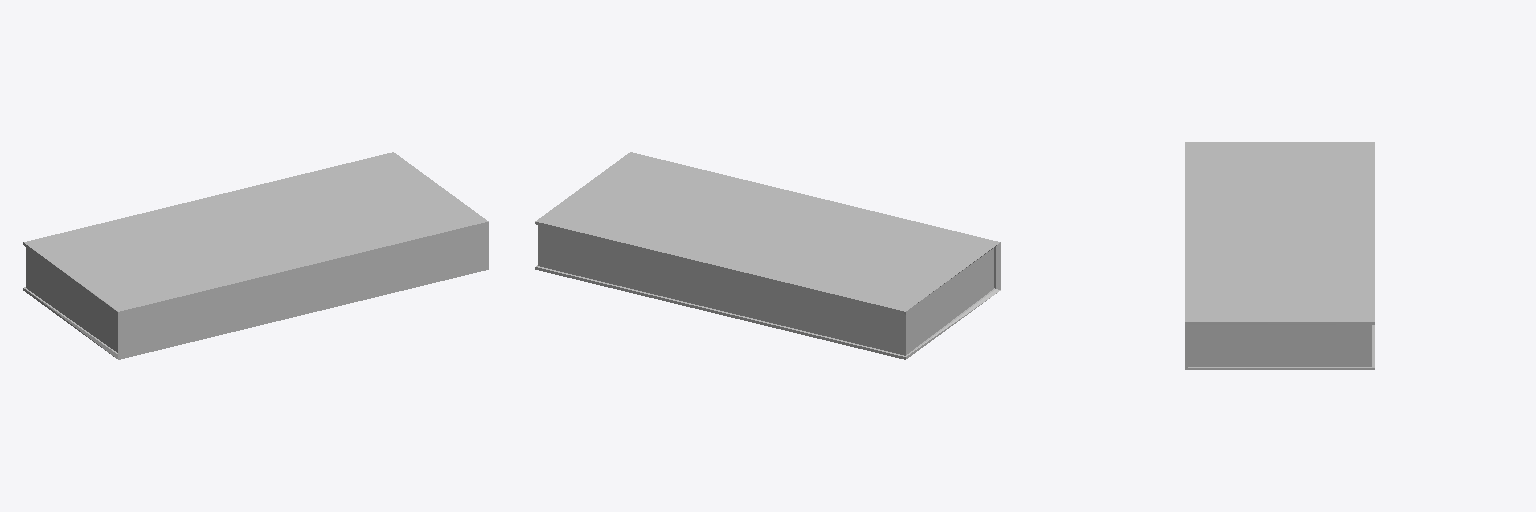
File: BookOne.obj
The picture shows the model from 3 angles: view 1: azimuth 30°, elevation 25°; view 2: azimuth 150°, elevation 25°; view 3: azimuth 270°, elevation 25°; orthographic projection.
Visible parts, largest first — view 1: Cube_Cube; view 2: Cube_Cube; view 3: Cube_Cube.
Part boxes in pixels (x1,y1,x2,y2): Cube_Cube: (23,152,488,359); Cube_Cube: (535,152,1000,359); Cube_Cube: (1185,142,1374,369).
Size of the model in its own units: 0.357 by 0.0444 by 0.1588.